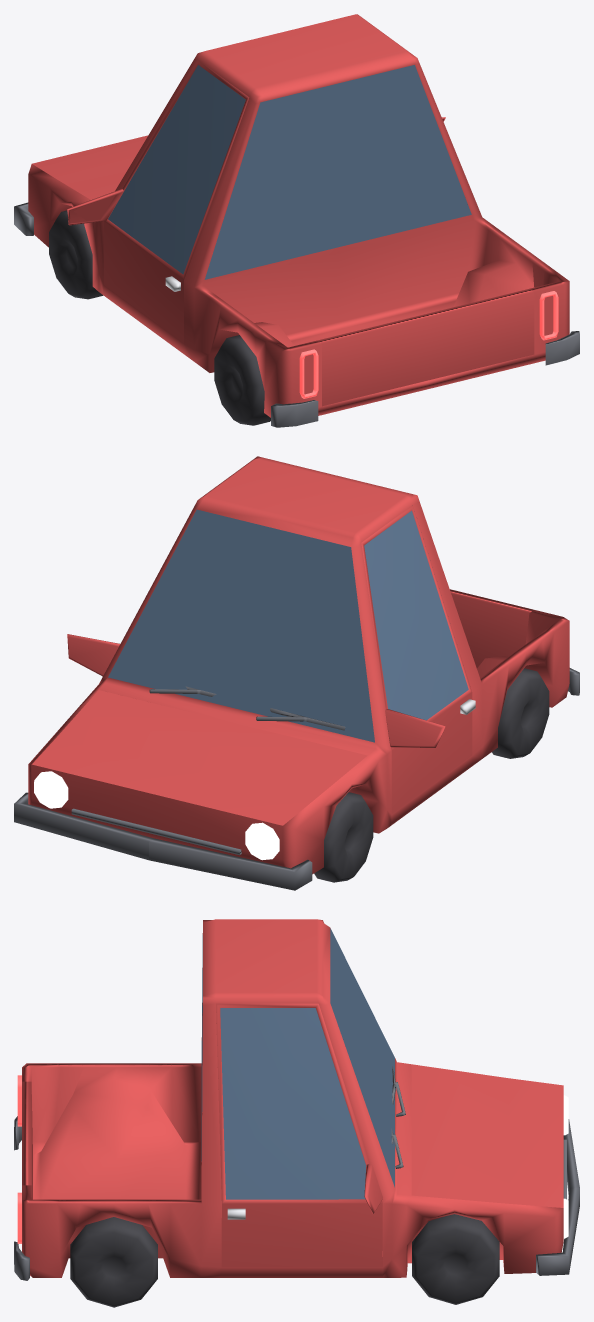
Rendered from cv-pickup.glb.
3 renders of one model, top to bottom at view 1: azimuth 30°, elevation 25°; view 2: azimuth 150°, elevation 25°; view 3: azimuth 270°, elevation 25°, orthographic.
Parts seen in each view (by area): view 1: CarMesh, WindowBack.2, Back, Window.2, ID200, Hood, WheelRL, WheelFL, BumperRear, ID218, ID327, ID345; view 2: CarMesh, WindowFront.2, Hood, Window.2, BumperFront, ID200, Back, WheelRL, WheelFL, ID218, ID173, Grille (+3 smaller); view 3: CarMesh, Window, Hood, ID155, WindowFront.2, WheelFR, WheelRR, BumperFront, Back, BumperRear, ID173.
Part boxes in pixels (bbox=[...]): CarMesh: bbox=[28, 14, 569, 417]; WindowBack.2: bbox=[204, 65, 471, 279]; Back: bbox=[317, 288, 534, 406]; Window.2: bbox=[108, 65, 245, 274]; ID200: bbox=[103, 60, 249, 343]; Hood: bbox=[32, 135, 147, 199]; WheelRL: bbox=[214, 335, 270, 425]; WheelFL: bbox=[49, 210, 103, 299]; BumperRear: bbox=[271, 331, 579, 427]; ID218: bbox=[67, 189, 123, 225]; ID327: bbox=[539, 291, 558, 340]; ID345: bbox=[299, 349, 318, 398]; CarMesh: bbox=[28, 456, 569, 874]; WindowFront.2: bbox=[108, 509, 374, 742]; Hood: bbox=[32, 690, 367, 825]; Window.2: bbox=[364, 510, 468, 720]; BumperFront: bbox=[14, 792, 312, 890]; ID200: bbox=[361, 505, 472, 814]; Back: bbox=[450, 589, 533, 668]; WheelRL: bbox=[492, 668, 549, 758]; WheelFL: bbox=[314, 792, 373, 882]; ID218: bbox=[385, 709, 445, 747]; ID173: bbox=[67, 634, 120, 676]; Grille: bbox=[71, 808, 241, 855]; CarMesh: bbox=[22, 919, 563, 1277]; Window: bbox=[220, 1008, 366, 1199]; Hood: bbox=[411, 1064, 563, 1207]; ID155: bbox=[216, 1003, 382, 1267]; WindowFront.2: bbox=[330, 928, 394, 1187]; WheelFR: bbox=[412, 1214, 499, 1304]; WheelRR: bbox=[70, 1217, 157, 1307]; BumperFront: bbox=[536, 1119, 579, 1275]; Back: bbox=[22, 1081, 32, 1199]; BumperRear: bbox=[14, 1116, 29, 1280]; ID173: bbox=[364, 1164, 382, 1213].
Bounding box in the file's own units: 2.62 × 1.87 × 3.4.
